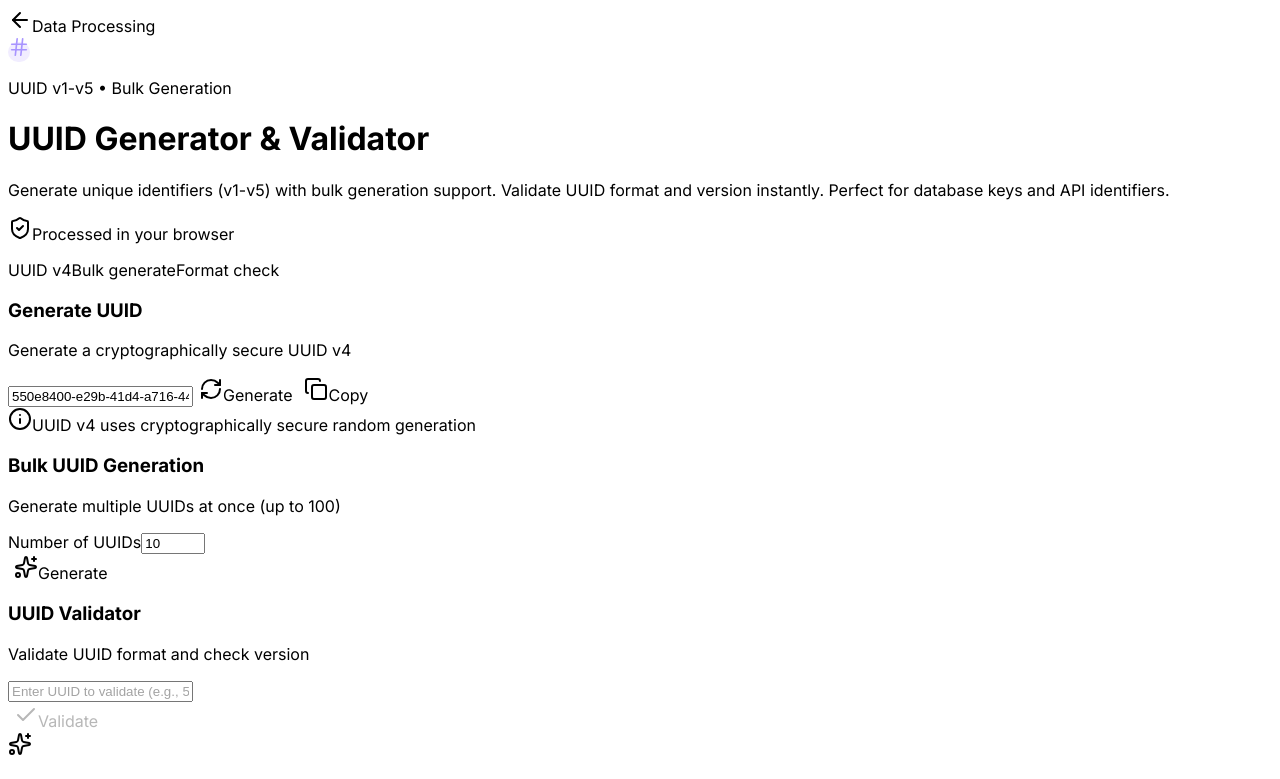
UUID Generator Page › Single UUID Generation › generates a new UUID when Generate button is clicked
What coordinates should you click on to do the following:
click the 1st button "Generate"
I would click on:
 (246, 391)
Its box is [193,376,298,406].
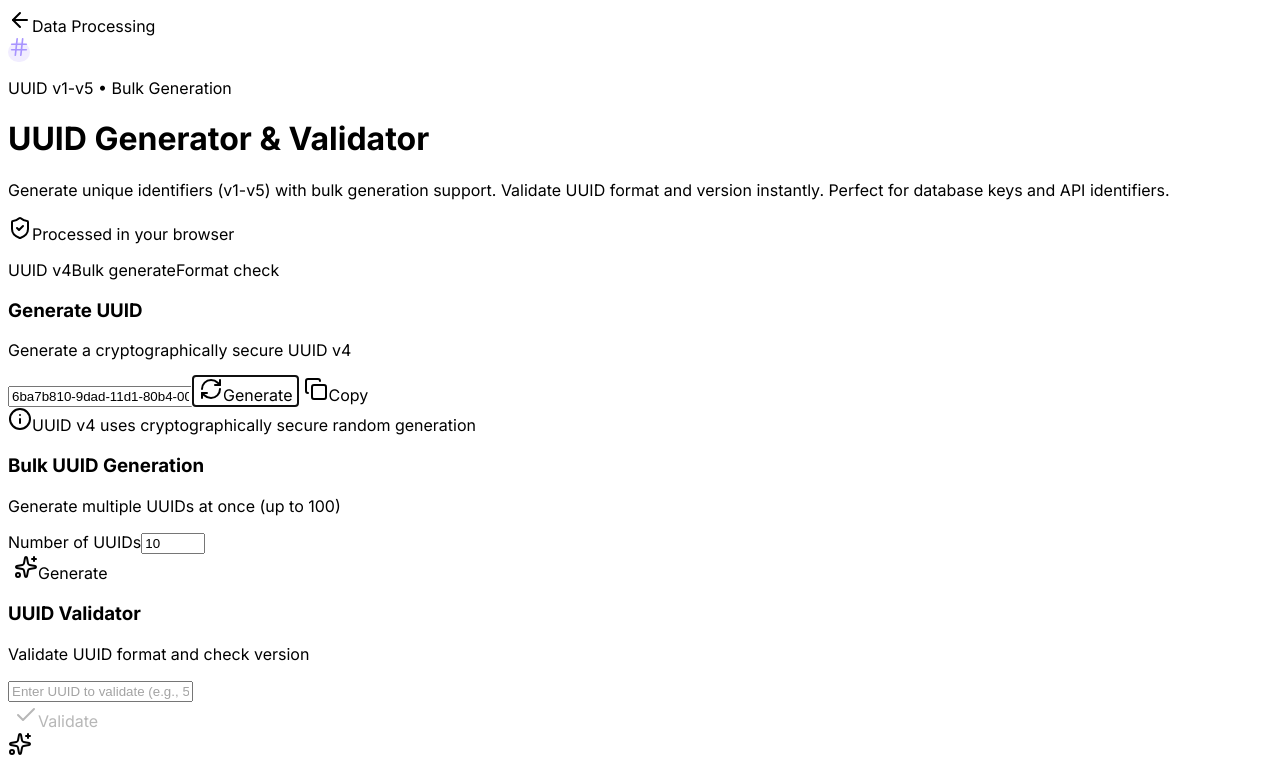
Check: the field showing "6ba7b810-9dad-11d1-80b4-00c04fd430c8" is shown, box [8,386,193,407]
